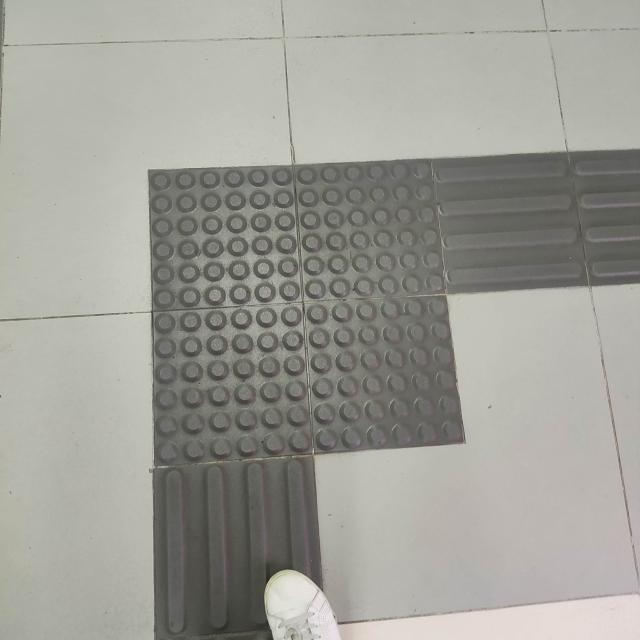kanan: (110, 125, 640, 551)
